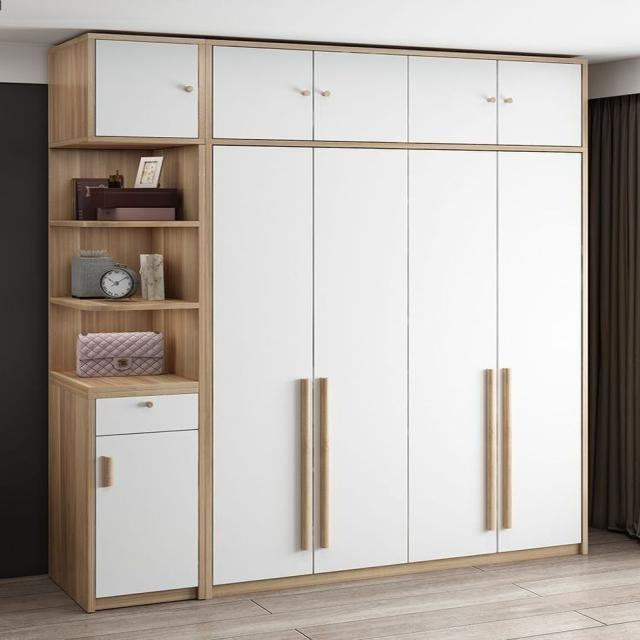door: (218, 147, 408, 574), (408, 147, 584, 565)
obstacle: (100, 33, 582, 150)
